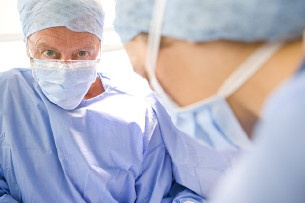Mask: (30, 37, 101, 109)
